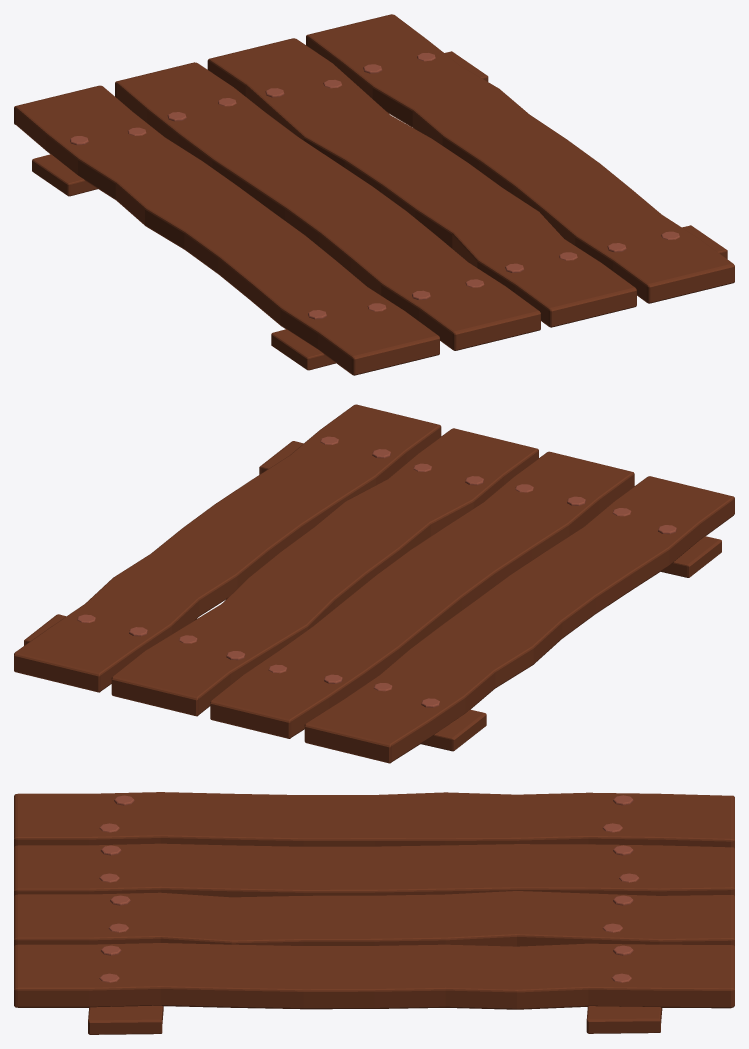
The model's file is woodboard.fbx.
3 views of the same model, one above another, from view 1: azimuth 30°, elevation 25°; view 2: azimuth 150°, elevation 25°; view 3: azimuth 270°, elevation 25° (orthographic). The views are drawn at different scales.
Visible parts, largest first — view 1: Cube.004, Cube, Cube.002, Cube.001, Cylinder.001, Cube.003, Cube.005; view 2: Cube.004, Cube, Cube.002, Cube.001, Cylinder.001, Cube.005, Cube.003; view 3: Cube.002, Cube.004, Cube.001, Cube, Cylinder.001, Cube.005, Cube.003.
Boxes of the visible parts, left/top/right/bottom form: Cube.004: left=14, top=85, right=439, bottom=375; Cube: left=115, top=62, right=540, bottom=350; Cube.002: left=306, top=14, right=734, bottom=303; Cube.001: left=207, top=38, right=636, bottom=327; Cylinder.001: left=70, top=52, right=679, bottom=319; Cube.003: left=32, top=51, right=488, bottom=196; Cube.005: left=271, top=225, right=727, bottom=370; Cube.004: left=304, top=476, right=734, bottom=763; Cube: left=210, top=451, right=634, bottom=738; Cube.002: left=14, top=404, right=441, bottom=692; Cube.001: left=111, top=428, right=538, bottom=716; Cylinder.001: left=77, top=436, right=676, bottom=707; Cube.005: left=259, top=441, right=721, bottom=577; Cube.003: left=24, top=614, right=486, bottom=751; Cube.002: left=14, top=943, right=734, bottom=1009; Cube.004: left=14, top=792, right=734, bottom=848; Cube.001: left=14, top=891, right=734, bottom=946; Cube: left=14, top=843, right=734, bottom=897; Cylinder.001: left=99, top=795, right=639, bottom=982; Cube.005: left=88, top=1005, right=163, bottom=1034; Cube.003: left=586, top=1006, right=662, bottom=1033.
Bounding box in the file's own units: 49.58 × 3.67 × 68.7.
